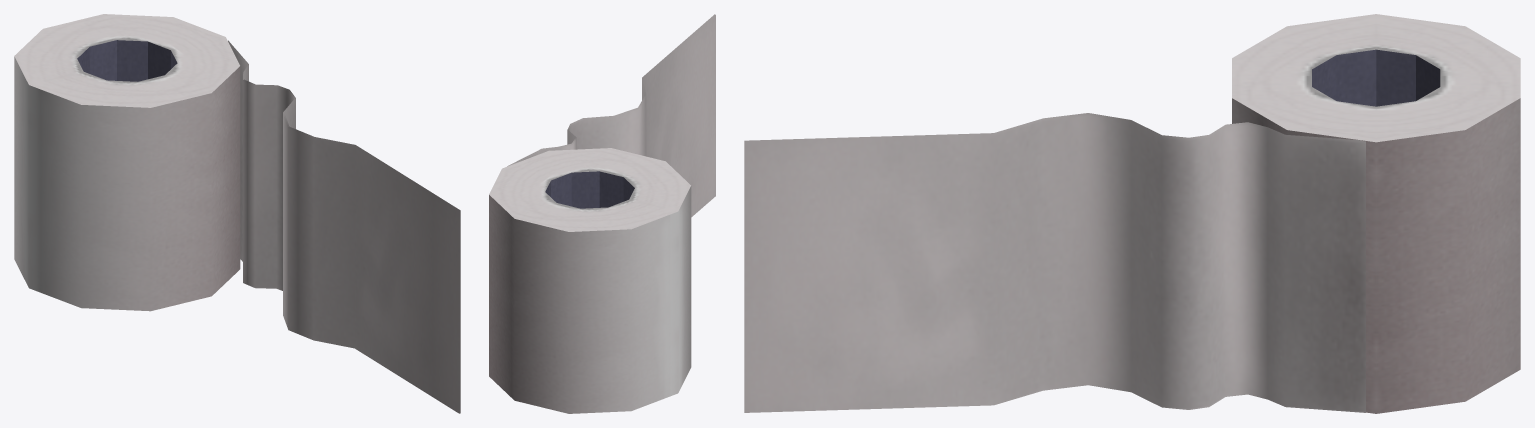
Rendered from BianLiDian_01_juanzhi_01.FBX.
3 renders of one model, left to right at view 1: azimuth 30°, elevation 25°; view 2: azimuth 150°, elevation 25°; view 3: azimuth 270°, elevation 25°, orthographic. The views are drawn at different scales.
Parts seen in each view (by area): view 1: BianLiDian_01_juanzhi_01; view 2: BianLiDian_01_juanzhi_01; view 3: BianLiDian_01_juanzhi_01.
Boxes of the visible parts, x1=… form: BianLiDian_01_juanzhi_01: x1=14, y1=14, x2=460, y2=413; BianLiDian_01_juanzhi_01: x1=489, y1=14, x2=715, y2=413; BianLiDian_01_juanzhi_01: x1=744, y1=14, x2=1520, y2=413.
Bounding box in the file's own units: 40.85 × 40.32 × 104.
